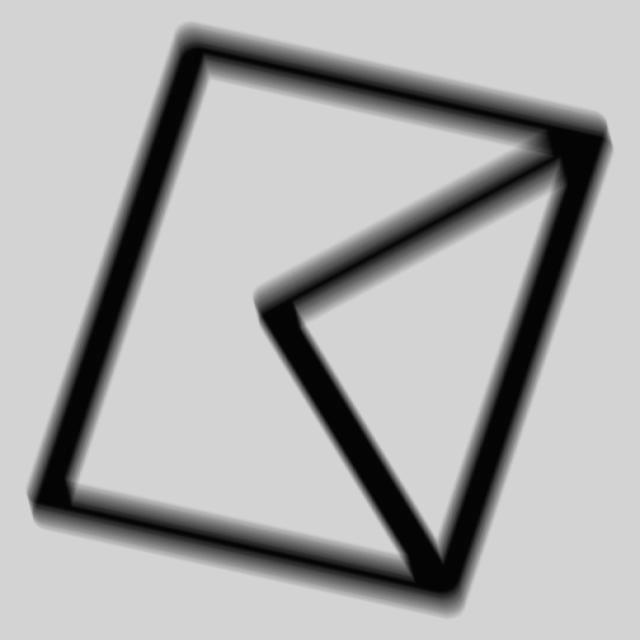letter: (16, 18, 622, 618)
